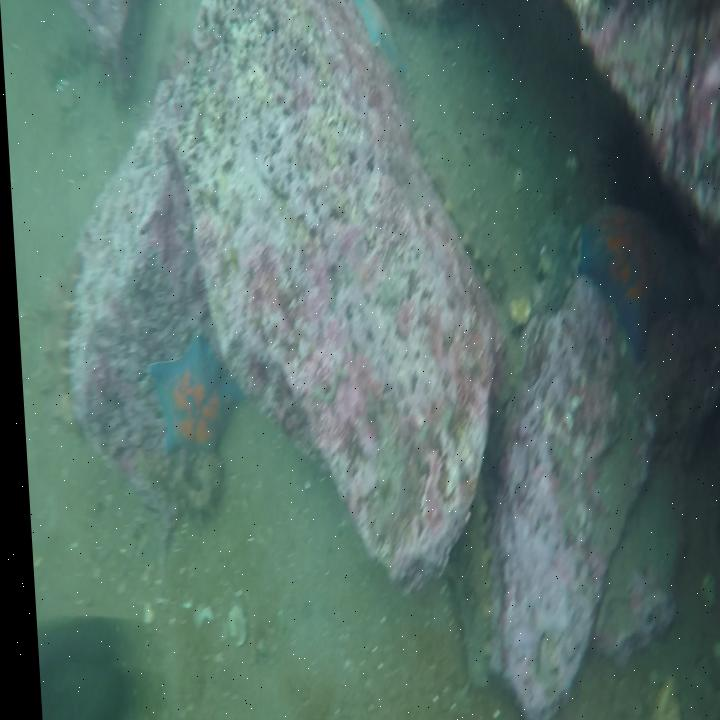holothurian: (412, 126, 508, 298), (33, 246, 88, 439), (40, 23, 104, 86)
starfish: (570, 197, 716, 354), (142, 329, 244, 465), (354, 0, 414, 80)
